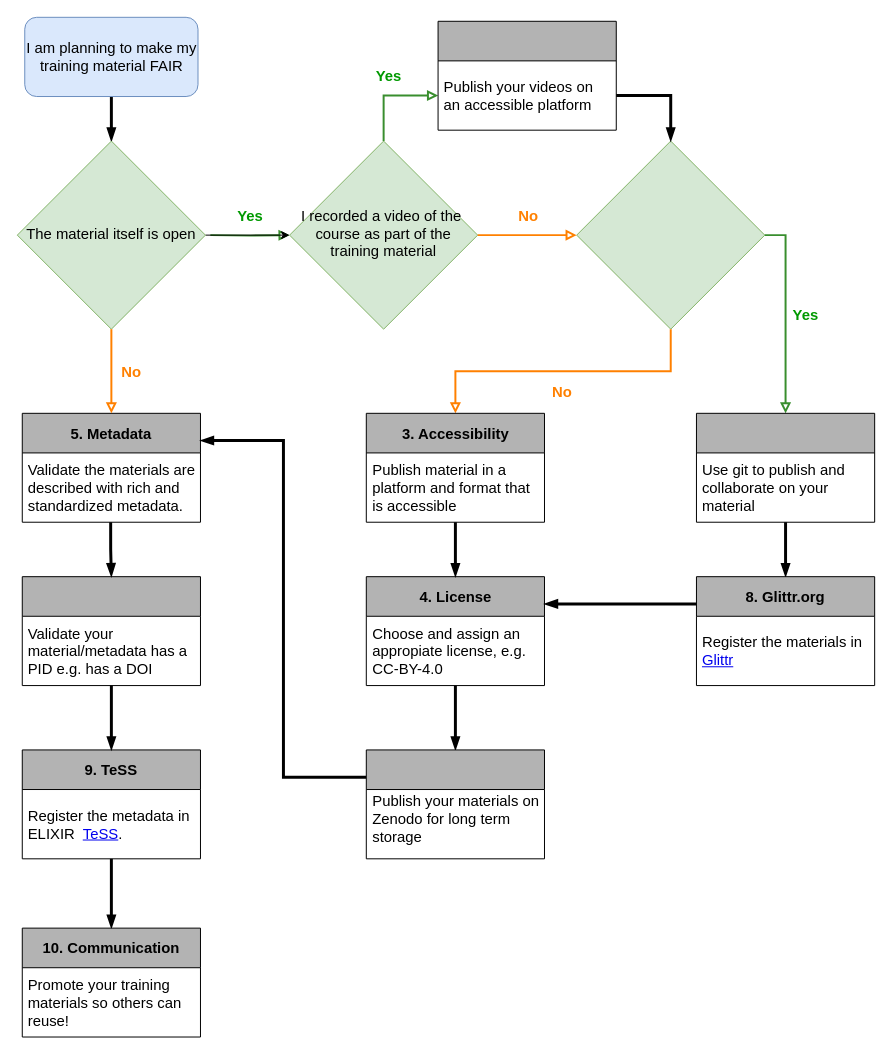
Some shapes in this 892 by 1054 pixel diagram are drawn without their labels. Each missing label, with the box of its shape:
1. Versioning system: (695, 412, 875, 522)
2. Zenodo: (365, 749, 544, 859)
6. Persistent identifier: (21, 576, 200, 686)
7. Video materials: (437, 20, 616, 130)
I use git to version control the materials: (576, 140, 765, 329)
